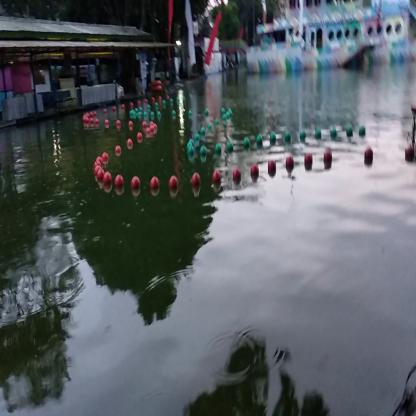green_buoy: (188, 146, 196, 164), (358, 124, 366, 141), (257, 133, 264, 149), (347, 124, 353, 141), (226, 142, 234, 154), (270, 133, 277, 146), (315, 127, 321, 141), (285, 130, 292, 142), (330, 127, 336, 140), (186, 141, 192, 153), (201, 146, 207, 158), (244, 137, 249, 150), (300, 130, 305, 142), (216, 144, 221, 156)
red_buoy: (191, 169, 202, 198), (149, 177, 160, 196), (170, 177, 180, 196), (114, 176, 125, 193), (323, 151, 333, 168), (304, 154, 314, 171), (249, 165, 260, 180), (267, 160, 276, 178), (232, 168, 242, 184), (131, 178, 141, 194), (364, 147, 372, 166), (286, 155, 294, 174), (104, 173, 111, 194), (406, 146, 414, 164), (212, 172, 220, 190), (98, 170, 106, 187), (94, 166, 102, 180), (102, 153, 110, 166), (135, 130, 143, 142), (115, 144, 121, 156), (127, 139, 133, 148)
